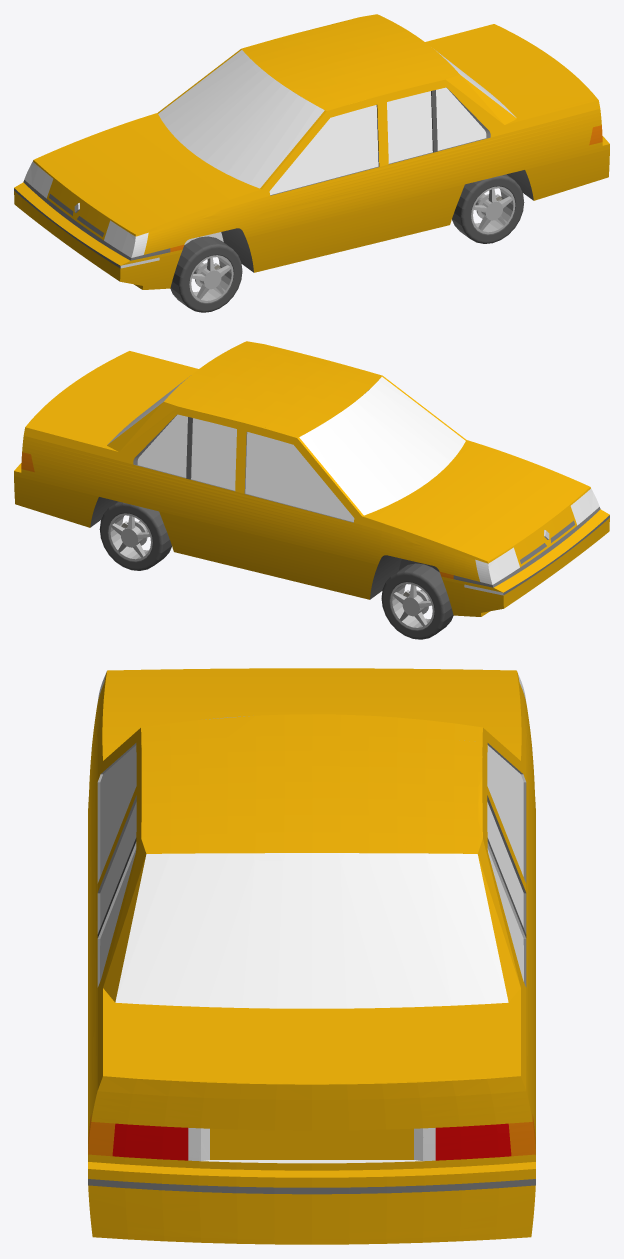
The model's file is protonSaga.dae.
3 views of the same model, one above another, from view 1: azimuth 30°, elevation 25°; view 2: azimuth 150°, elevation 25°; view 3: azimuth 270°, elevation 25° (orthographic). The views are drawn at different scales.
Visible parts, largest first — view 1: rearweels; view 2: rearweels; view 3: rearweels.
Part boxes in pixels (bbox=[...]): rearweels: bbox=[14, 14, 609, 312]; rearweels: bbox=[14, 341, 609, 639]; rearweels: bbox=[88, 668, 535, 1244].
Bounding box in the file's own units: 31.53 × 12.26 × 10.11.
